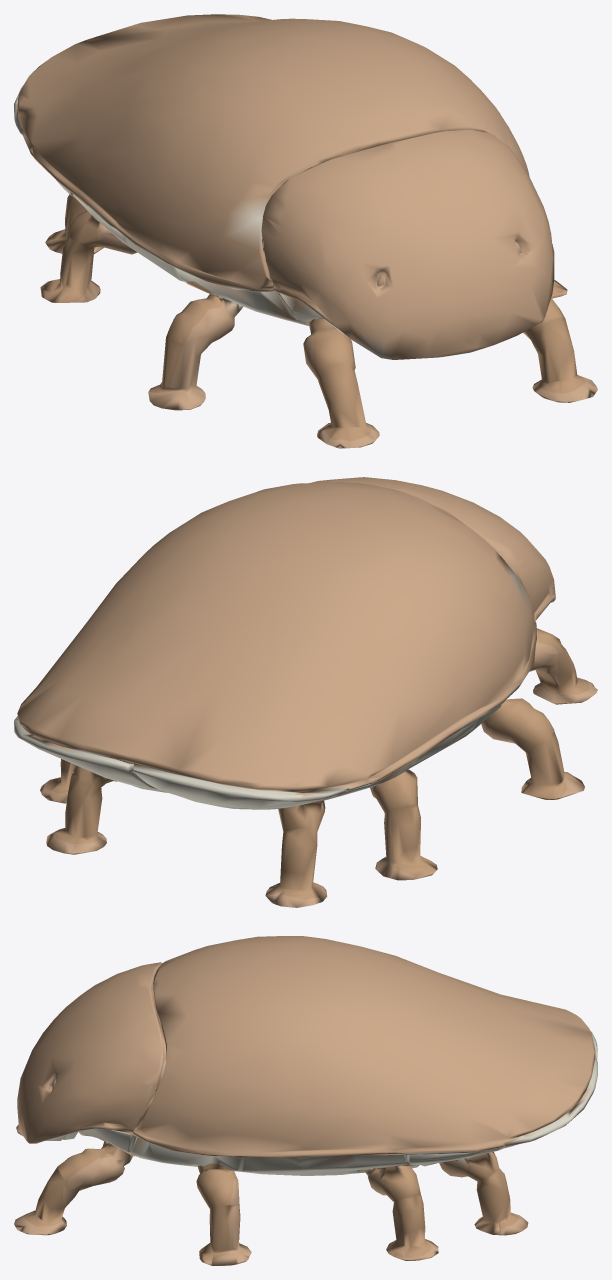
Rendered from body.glb.
The picture shows the model from 3 angles, top to bottom: view 1: azimuth 30°, elevation 25°; view 2: azimuth 150°, elevation 25°; view 3: azimuth 270°, elevation 25°; orthographic projection. The views are drawn at different scales.
Visible parts, largest first — view 1: skitter; view 2: skitter; view 3: skitter.
Boxes of the visible parts, box(x1,y1,x2,y2) form: skitter: box(14, 14, 597, 448); skitter: box(14, 477, 597, 907); skitter: box(14, 936, 597, 1265).
Bounding box in the file's own units: 0.935 × 0.5496 × 1.31.
